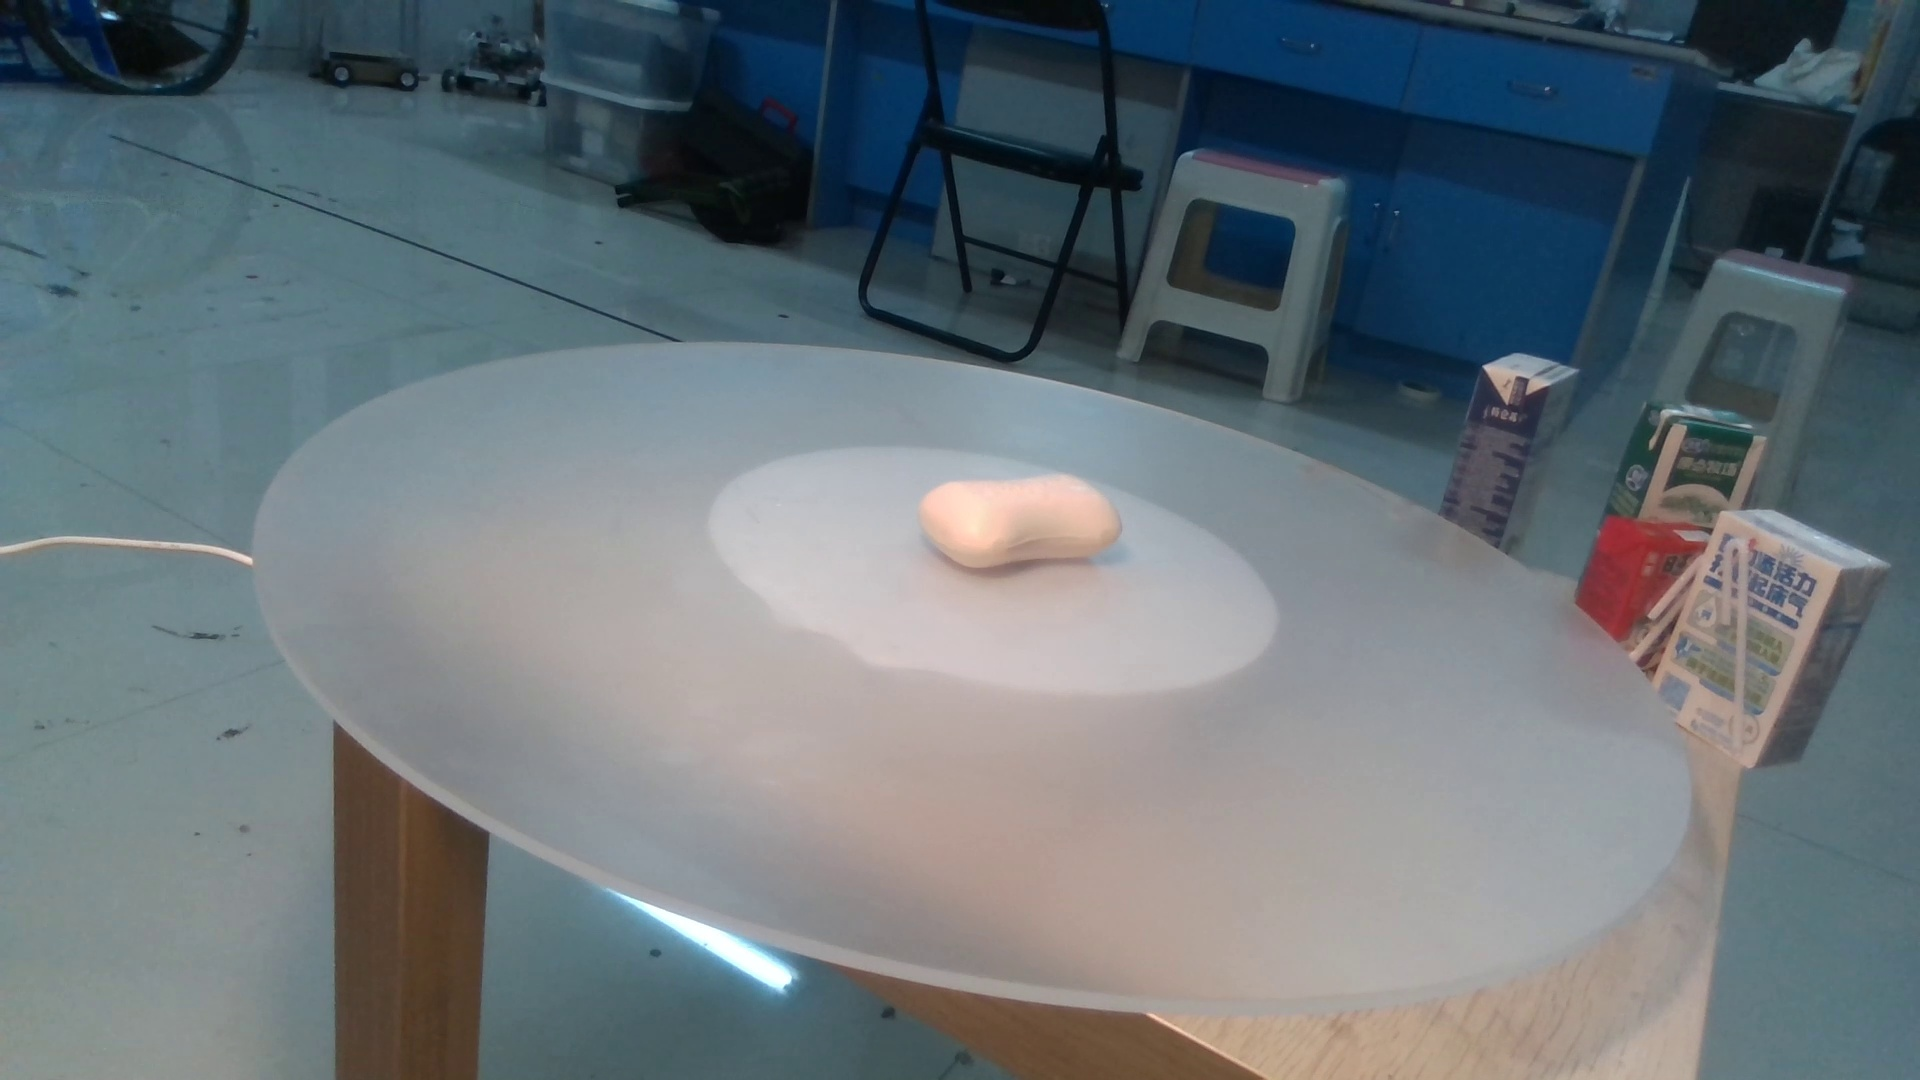CA003_1: (923, 439, 1164, 591)
